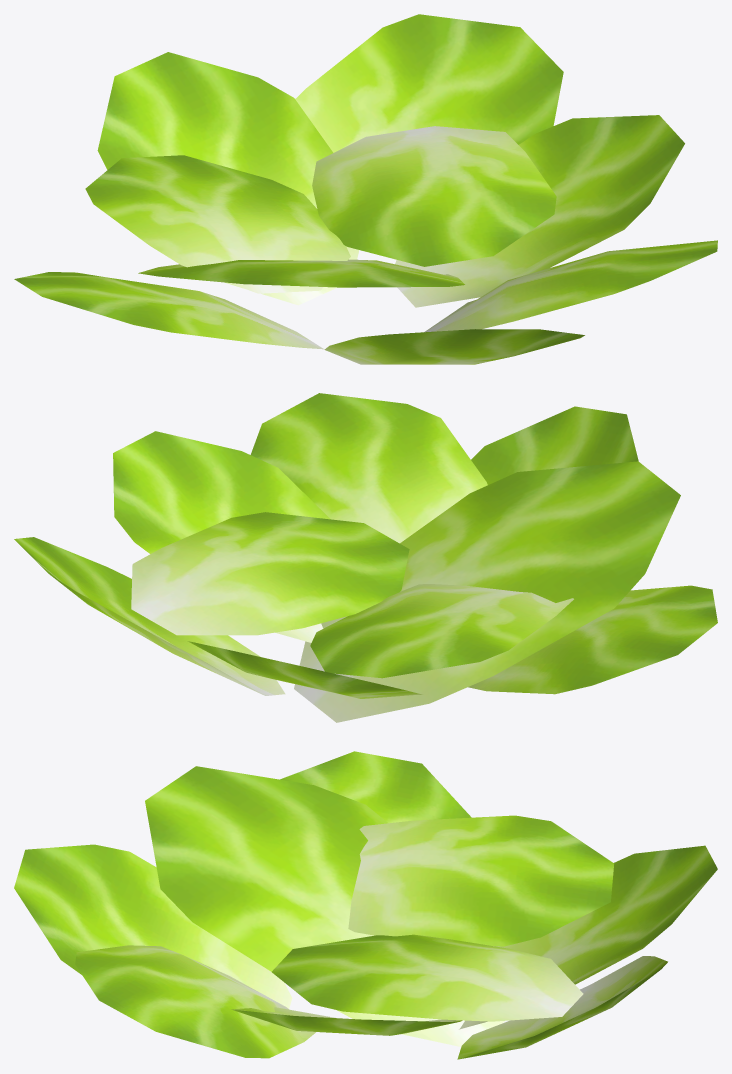
The model's file is Salad_Lettuce.fbx.
3 views of the same model, one above another, from view 1: azimuth 30°, elevation 25°; view 2: azimuth 150°, elevation 25°; view 3: azimuth 270°, elevation 25° (orthographic). The views are drawn at different scales.
Parts seen in each view (by area): view 1: Salad_Lettuce; view 2: Salad_Lettuce; view 3: Salad_Lettuce.
Boxes of the visible parts, bbox=[...] form: Salad_Lettuce: bbox=[14, 14, 717, 364]; Salad_Lettuce: bbox=[14, 393, 717, 722]; Salad_Lettuce: bbox=[14, 751, 717, 1059].
Size of the model in its own units: 0.7261 by 0.1875 by 0.7333.
Materials: 1 (1 with a texture image).
